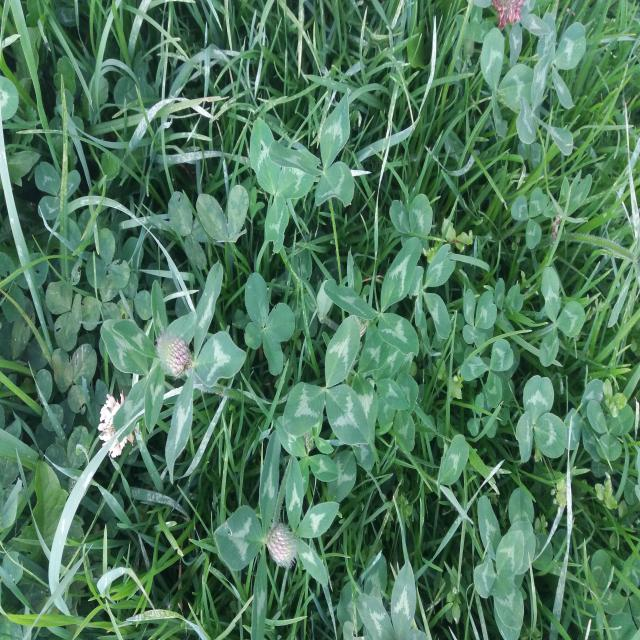Four Leaf Clover: (243, 272, 295, 375), (192, 343, 224, 390), (216, 290, 244, 333), (254, 283, 281, 325)
